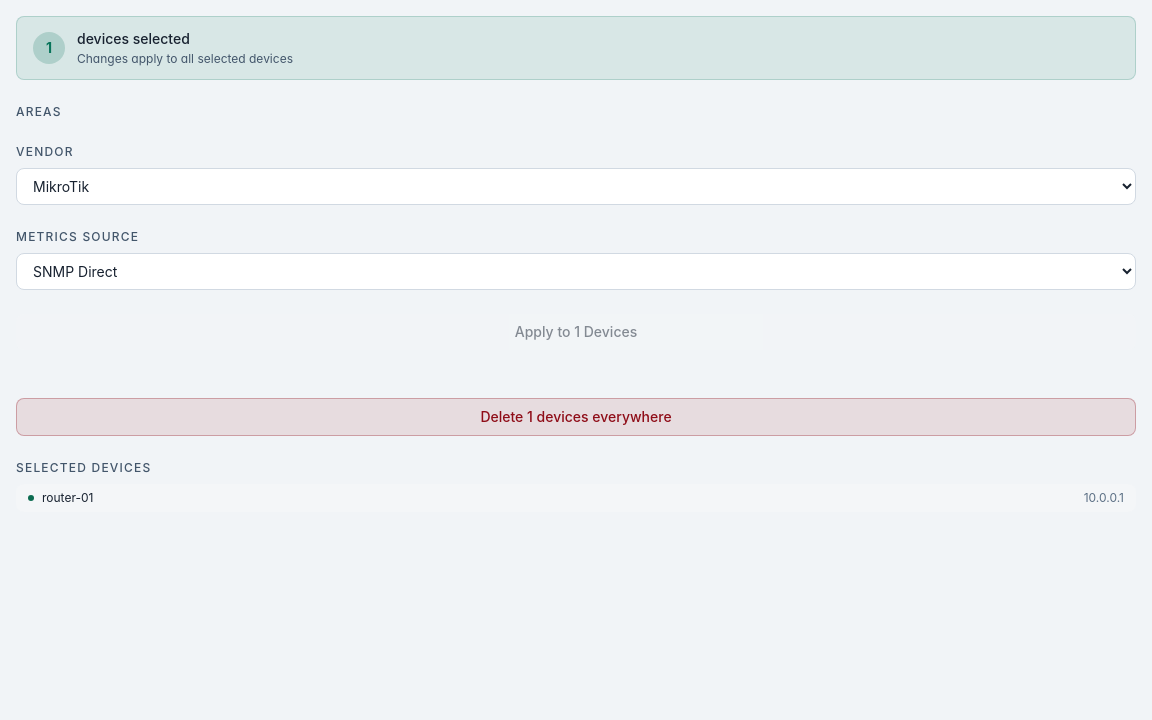
Test: BulkEditPanel — per-device error loop handles ServerError › shows server error ref when a device update returns ServerError
The width and height of the screenshot is (1152, 720).
Make a change so the save button is enabled: change the vendor
Select "-- Select vendor --" in the dropdown showing "MikroTik" below "Vendor" at {"x": 576, "y": 186}, box [16,168,1136,205]
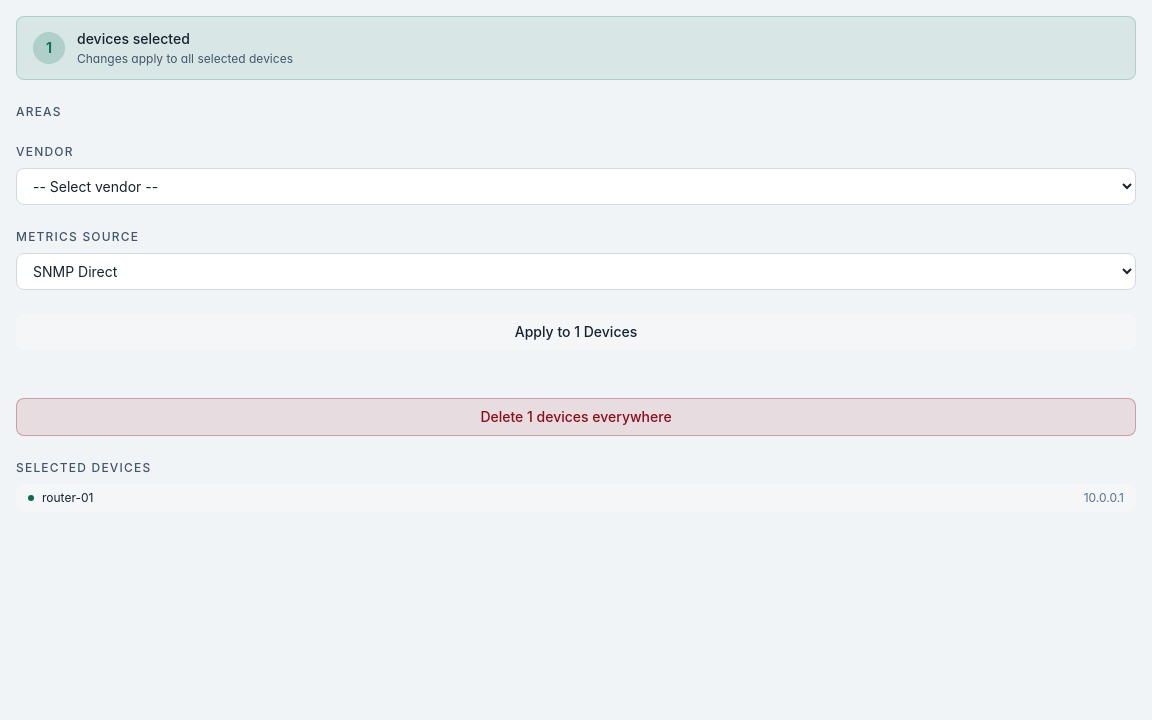
Button text is "Apply to N Devices"
Click the button "Apply to 1 Devices".
click(576, 332)  # box [16,314,1136,350]
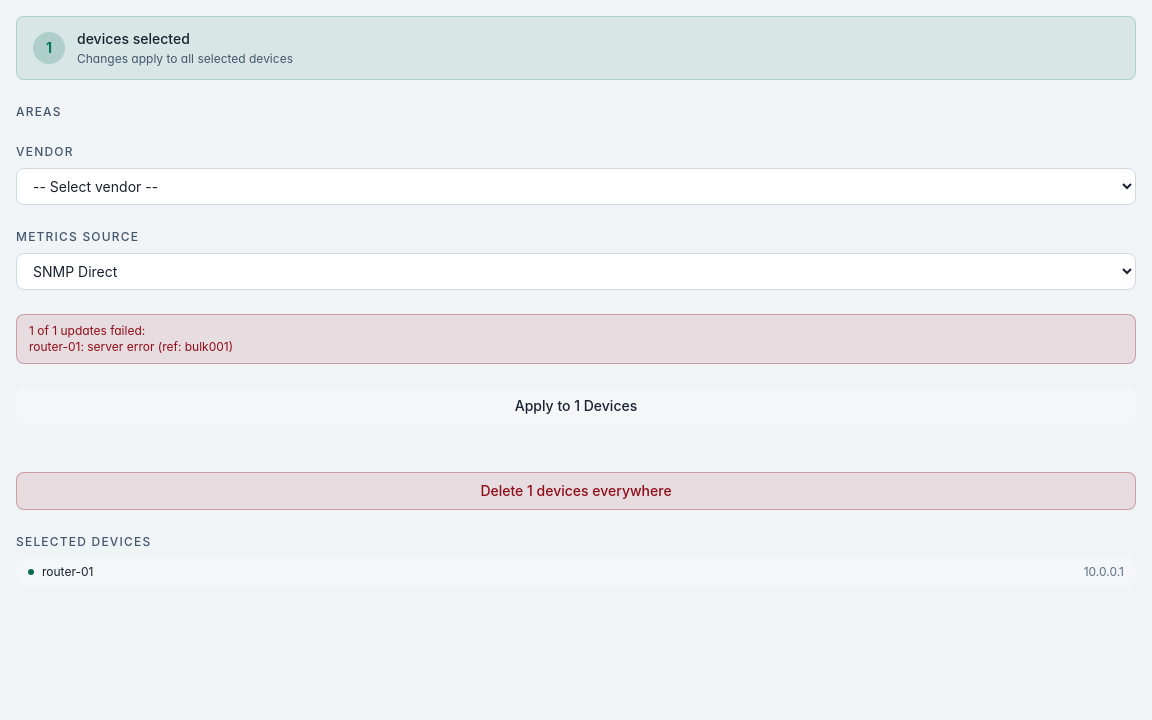
expect the text "server error (ref: bulk001)" is shown: met, box [29,323,233,354]
